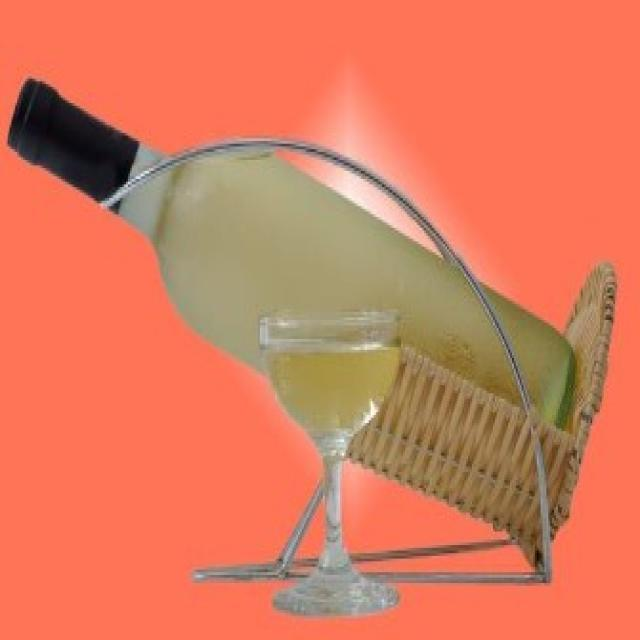electronic: (260, 309, 402, 618)
